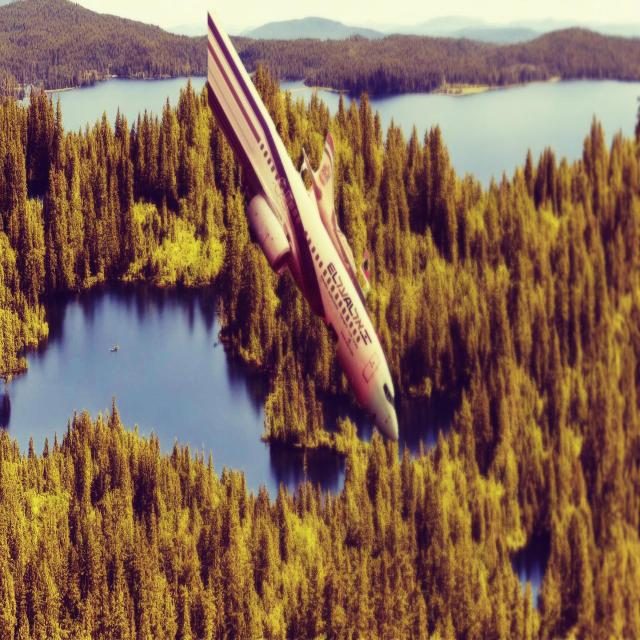airplane: (205, 10, 399, 442)
